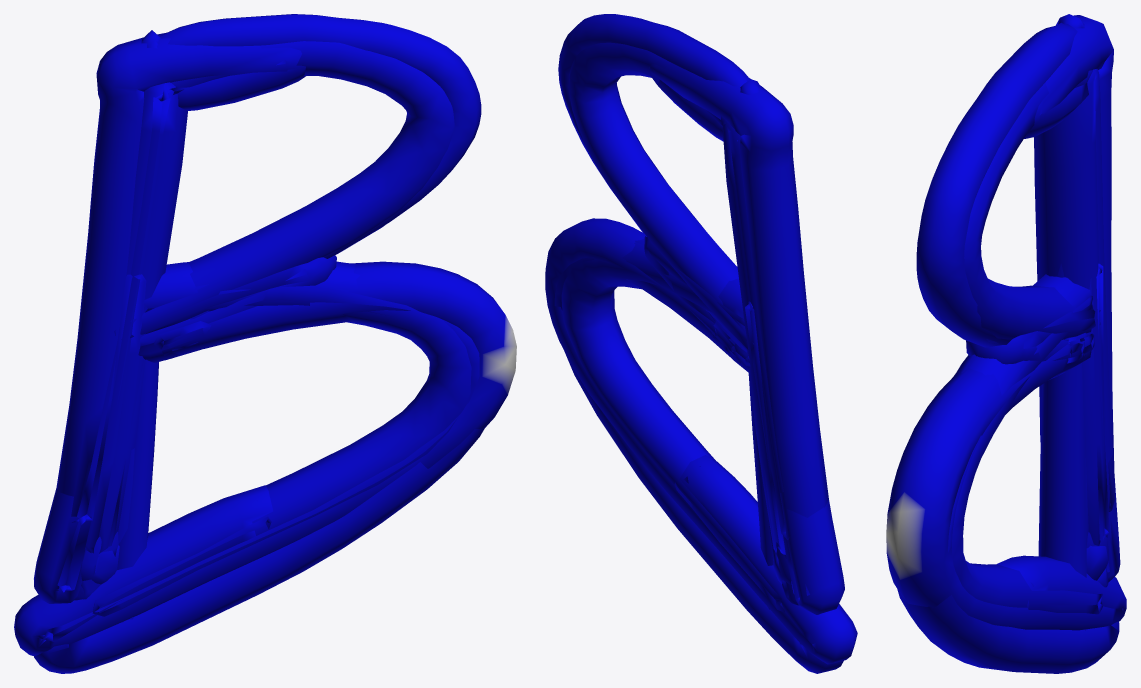
The model's file is rgb.003.fbx.
The picture shows the model from 3 angles, left to right: view 1: azimuth 30°, elevation 25°; view 2: azimuth 150°, elevation 25°; view 3: azimuth 270°, elevation 25°; orthographic projection. The views are drawn at different scales.
Visible parts, largest first — view 1: crv_GP_Layer_1_mesh_009; view 2: crv_GP_Layer_1_mesh_009; view 3: crv_GP_Layer_1_mesh_009.
Part boxes in pixels (x1,y1,x2,y2): crv_GP_Layer_1_mesh_009: (14,14,516,673); crv_GP_Layer_1_mesh_009: (545,14,857,673); crv_GP_Layer_1_mesh_009: (886,14,1126,673).
Size of the model in its own units: 0.2862 by 0.4134 by 0.1291.
